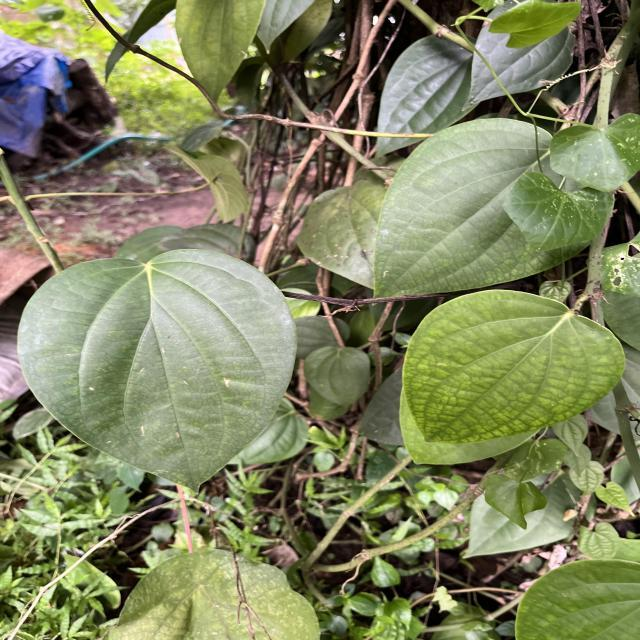Piper nigrum: (16, 247, 300, 497), (400, 287, 626, 445)
